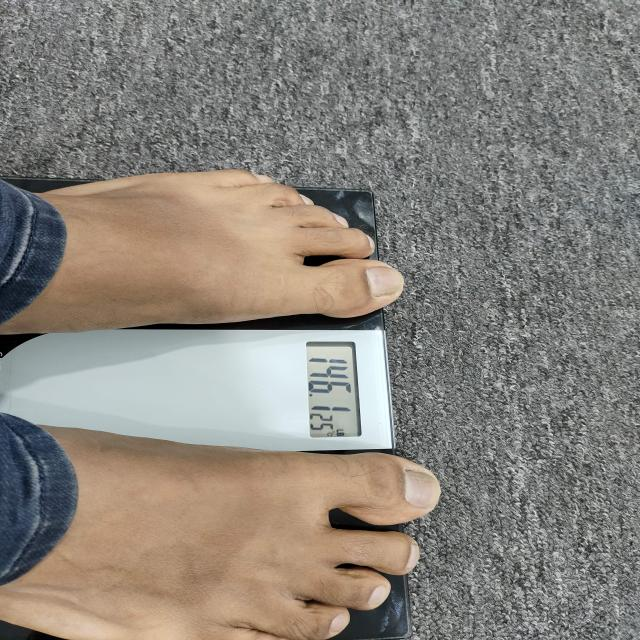ws: (0, 315, 394, 458)
